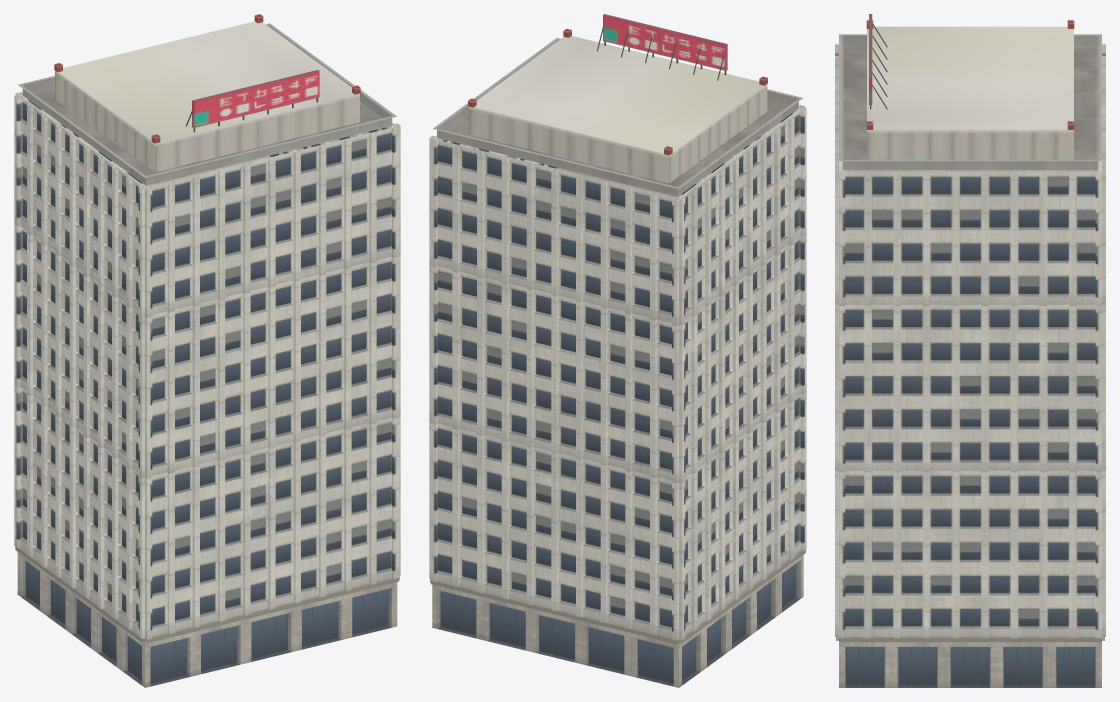
File: tokyo_glassslab_d.glb
The picture shows the model from 3 angles, left to right: view 1: azimuth 30°, elevation 25°; view 2: azimuth 150°, elevation 25°; view 3: azimuth 270°, elevation 25°; orthographic projection. The views are drawn at different scales.
Visible parts, largest first — view 1: tokyo_glassslab_d; view 2: tokyo_glassslab_d; view 3: tokyo_glassslab_d.
Boxes of the visible parts, <box> form: tokyo_glassslab_d: <box>14,14,400,687</box>; tokyo_glassslab_d: <box>429,14,806,687</box>; tokyo_glassslab_d: <box>835,14,1105,687</box>.
Size of the model in its own units: 32.8 by 67.9 by 28.8.
Materials: 1 (1 with a texture image).
